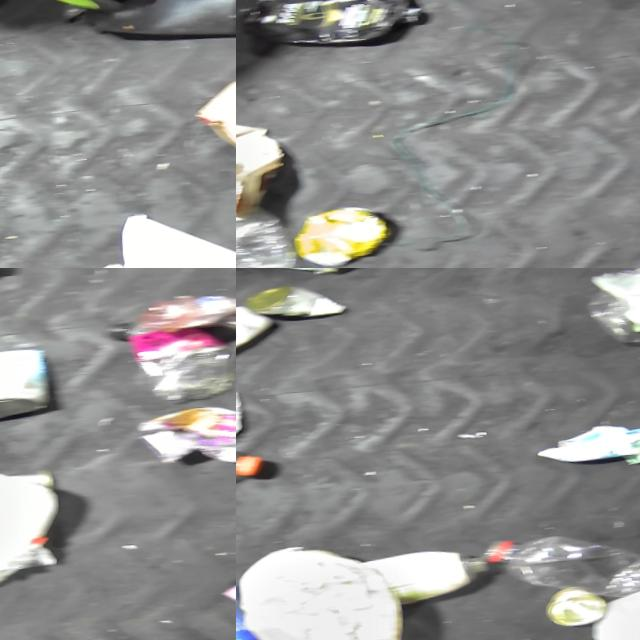can: (294, 203, 390, 268), (0, 344, 50, 426), (249, 281, 349, 322)
milk_jug: (0, 461, 65, 597)
non_white_jug: (238, 0, 425, 51)
plastic_bottle: (473, 527, 640, 605), (103, 311, 236, 408)
